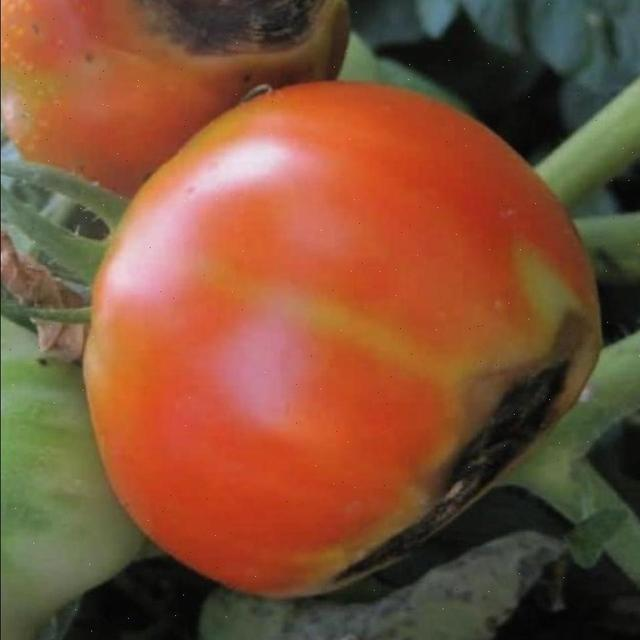Blossom End Rot Fruit: (145, 20, 303, 300)
